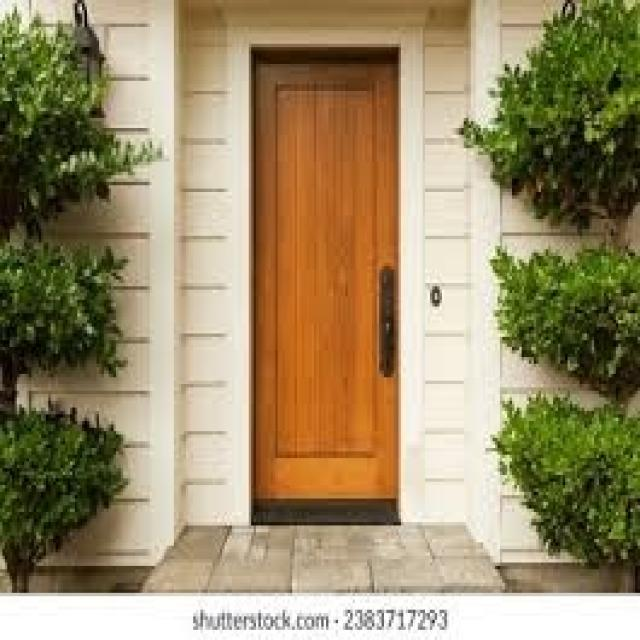door: (252, 51, 400, 512)
